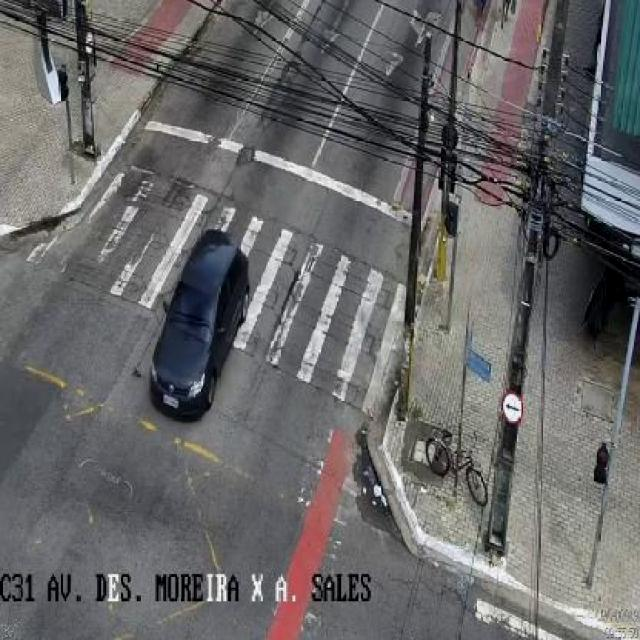Car: (144, 202, 252, 453)
